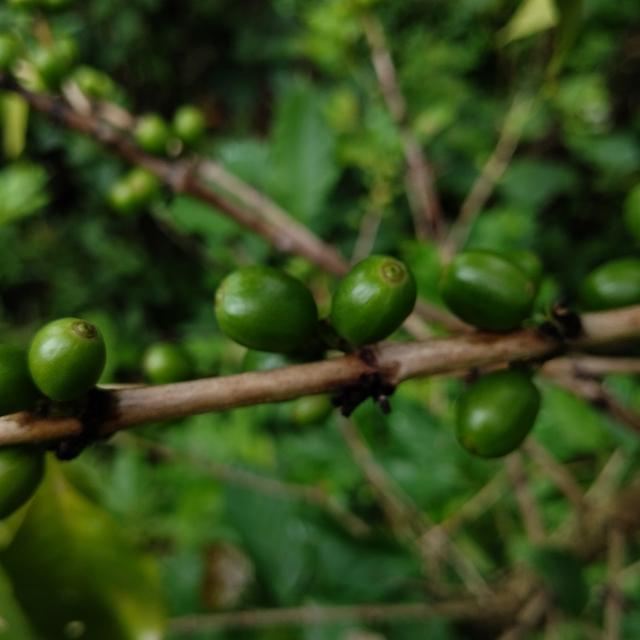green: (215, 266, 318, 352), (440, 251, 537, 331), (331, 255, 417, 345), (456, 371, 541, 458), (27, 318, 105, 402), (0, 446, 43, 520), (0, 345, 38, 416)
